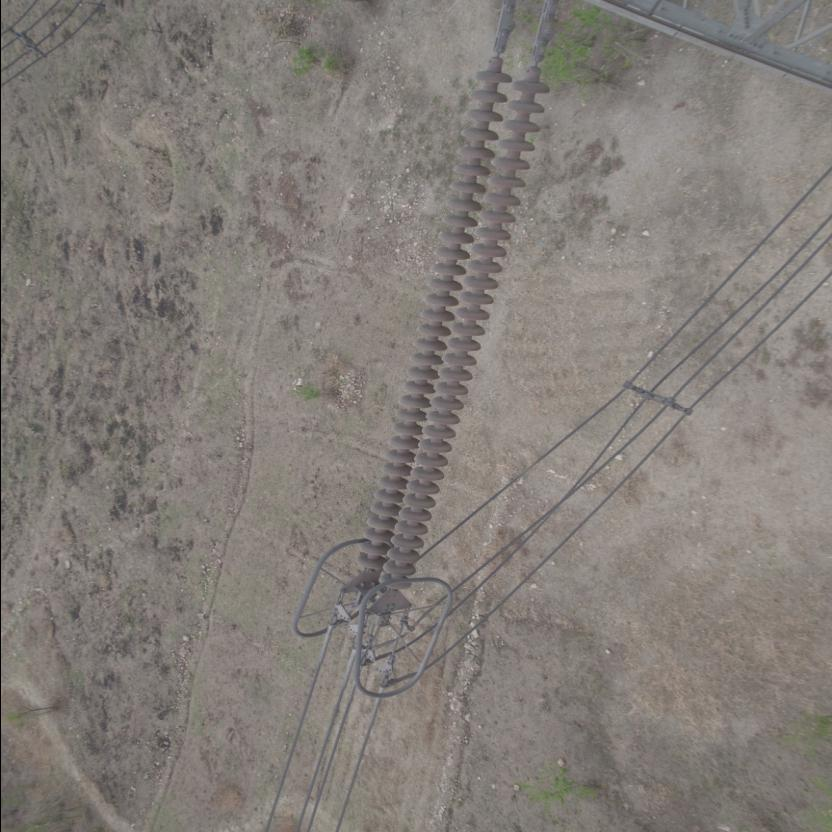insulator: (350, 24, 552, 596)
